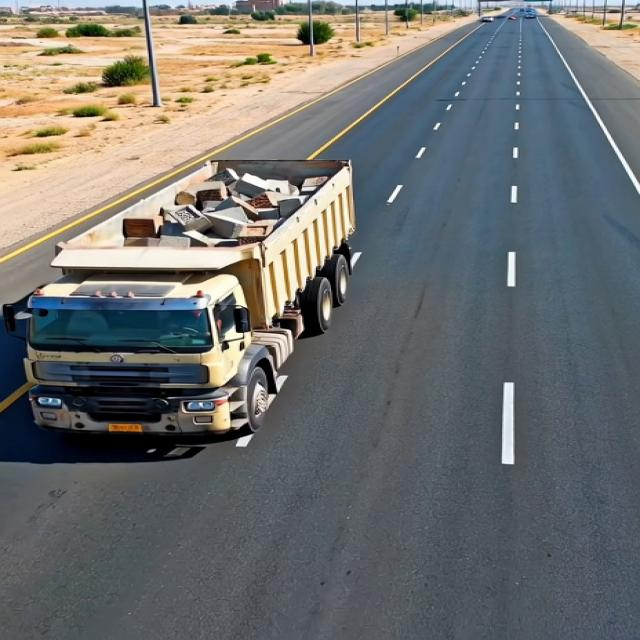Box: (53, 156, 350, 270)
Truck: (6, 150, 388, 442)
